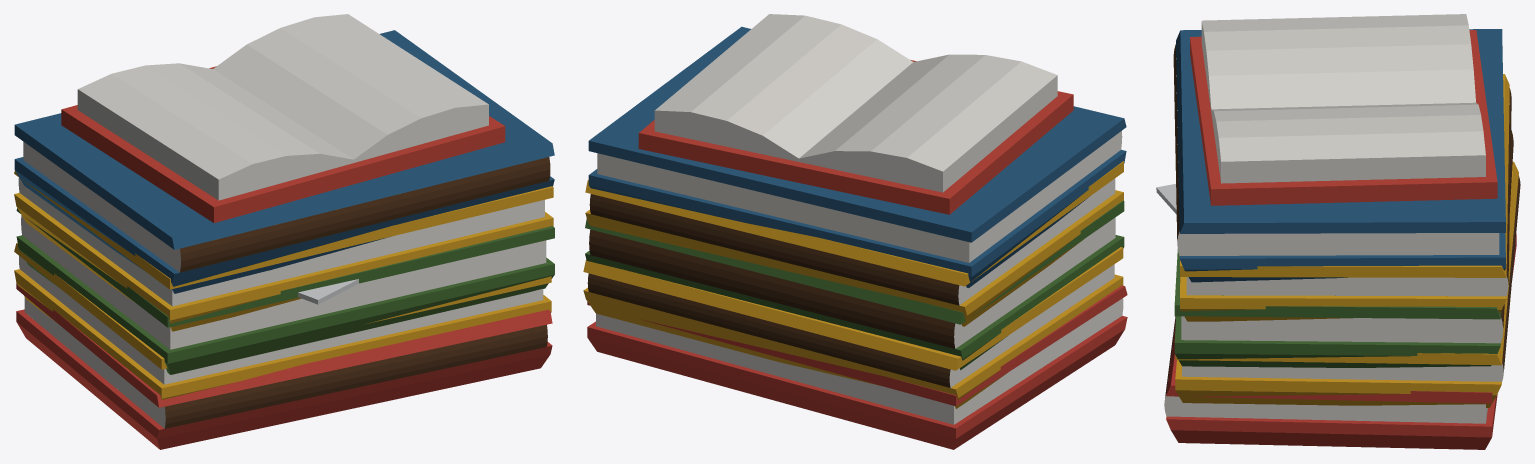
Rendered from scroll.glb.
3 renders of one model, left to right at view 1: azimuth 30°, elevation 25°; view 2: azimuth 150°, elevation 25°; view 3: azimuth 270°, elevation 25°, orthographic. The views are drawn at different scales.
Visible parts, largest first — view 1: exercise-book-stack; view 2: exercise-book-stack; view 3: exercise-book-stack.
Boxes of the visible parts, x1,y1,x2,y2 form: exercise-book-stack: [14, 14, 554, 449]; exercise-book-stack: [583, 14, 1127, 449]; exercise-book-stack: [1156, 14, 1520, 449].
Bounding box in the file's own units: 0.2178 × 0.1378 × 0.1675.
